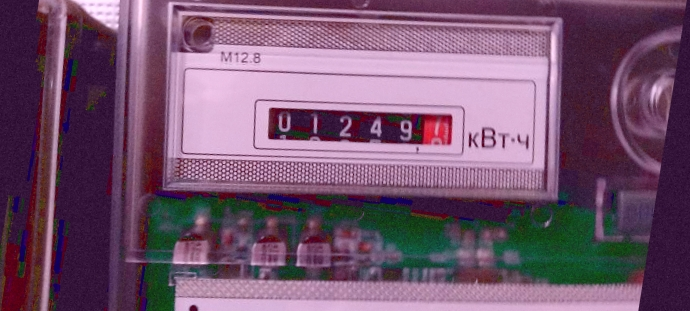0: (272, 105, 295, 133)
1: (304, 108, 323, 135)
2: (334, 111, 358, 140)
4: (366, 110, 388, 140)
7: (427, 111, 446, 137)
9: (395, 115, 417, 142)
screen: (241, 75, 482, 186)
